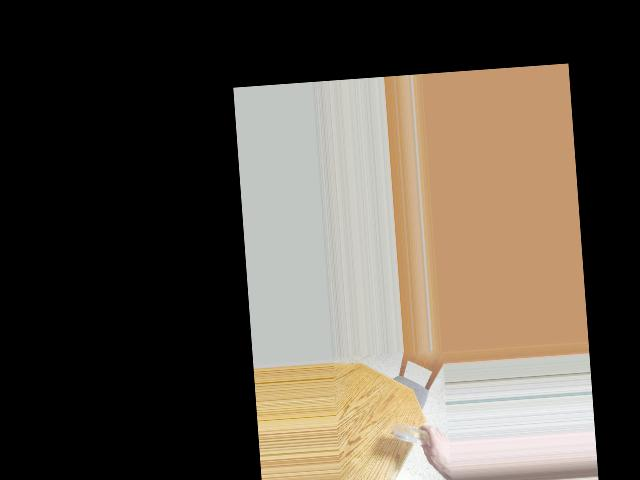cheese: (396, 418, 430, 448)
